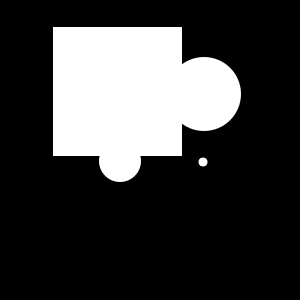circle: (53, 27, 182, 156), (92, 68, 135, 111)
rectangle: (167, 57, 241, 131), (99, 140, 141, 182), (198, 158, 208, 167)
